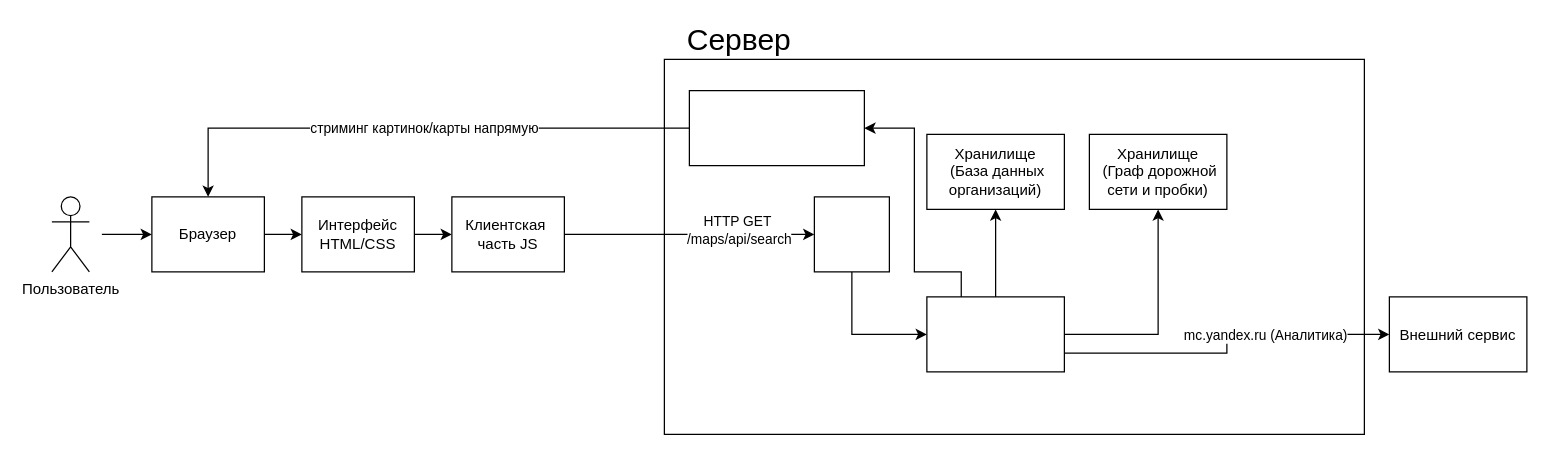
Image size: 1549x456. Some labels were removed from this diagram. The shapes that lost their labels are listed below. From the top down, each one's centre as x and y in pixels, then its label:
At point (776, 127): "Файловое хранилище (Тайлы и Фотографии)".
At point (851, 234): "API".
At point (995, 334): "Бизнес-логика".
